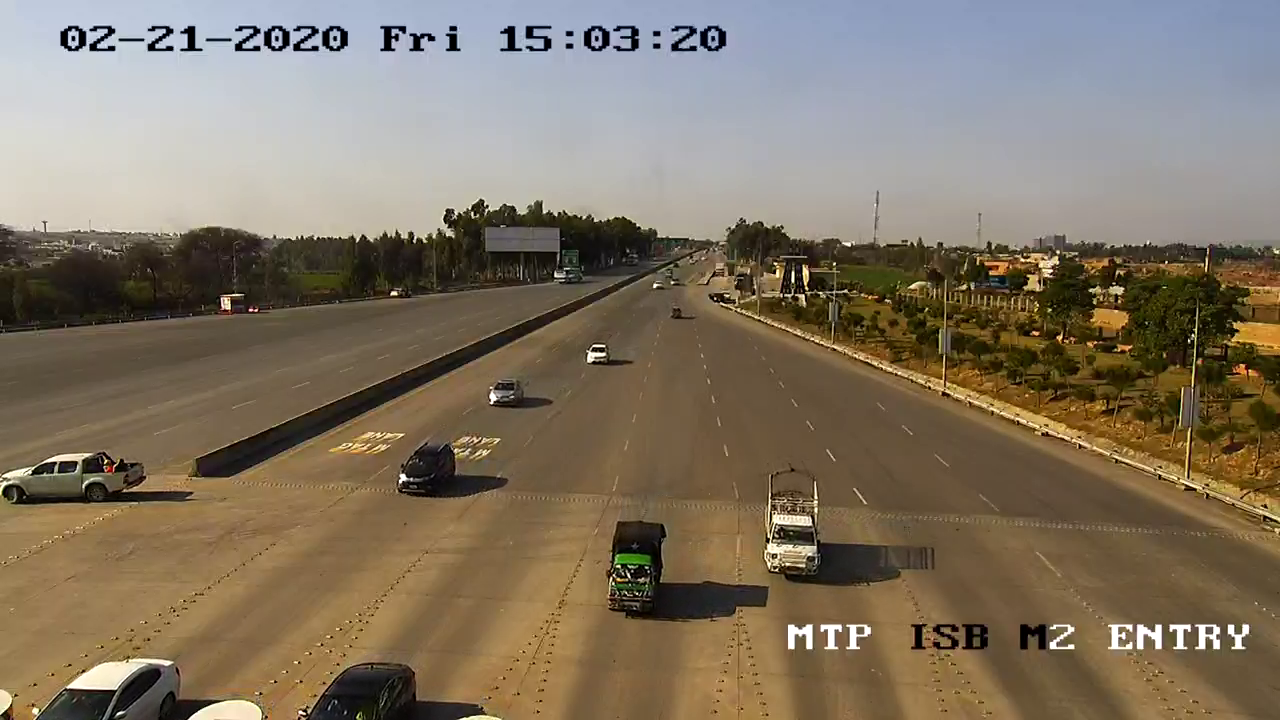f1: (594, 511, 674, 624), (386, 435, 468, 504), (479, 371, 529, 412), (578, 339, 619, 370)
f2: (752, 467, 832, 587)
